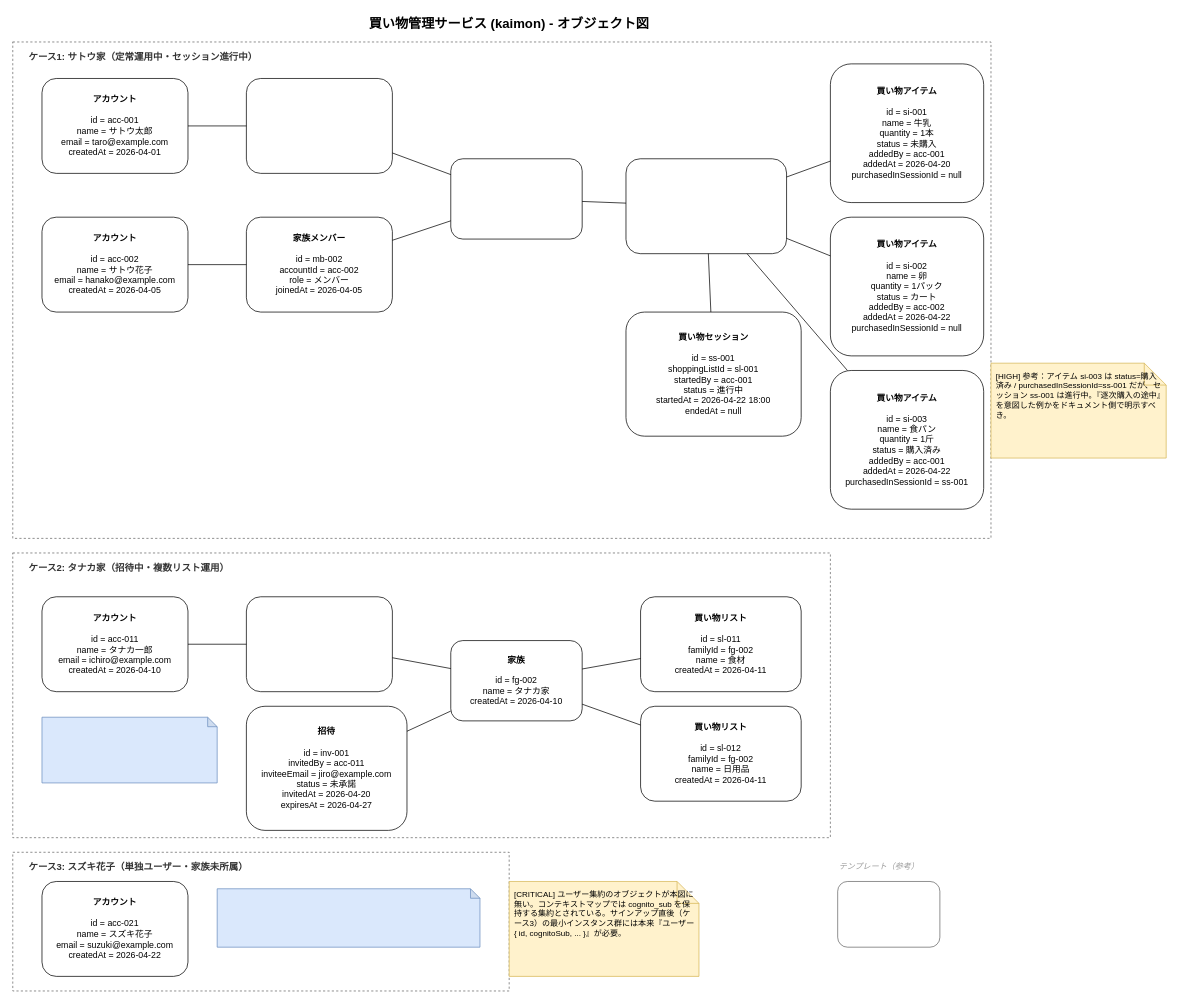
Some shapes in this 1179 by 1004 pixel diagram are drawn without their labels. Each missing label, with the centre of its shape:
"サインアップ直後の状態。 アカウント と 家族メンバー / 招待 の関係は 0..* （未所属もあり得る）。" goes at (348,917).
"家族 id = fg-001 name = サトウ家 createdAt = 2026-04-01" goes at (516,198).
"家族メンバー id = mb-001 accountId = acc-001 role = オーナー joinedAt = 2026-04-01" goes at (319,125).
"家族メンバー id = mb-011 accountId = acc-011 role = オーナー joinedAt = 2026-04-10" goes at (319,644).
"招待はメールアドレス宛に発行され、 承諾されるまで アカウント と紐付かない。 承諾時に 家族メンバー が生成される。" goes at (129,749).
"買い物リスト id = sl-001 familyId = fg-001 name = 今週の買い物 createdAt = 2026-04-20" goes at (706,206).
"（オブジェクト名） 属性1 属性2" goes at (888,914).
